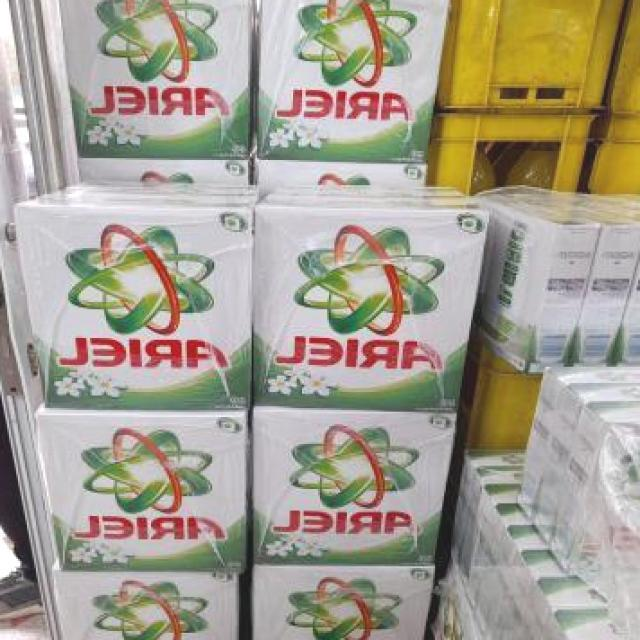Detergent: (258, 206, 490, 408), (48, 206, 250, 411), (259, 0, 457, 162), (45, 409, 248, 567), (257, 414, 460, 566), (76, 0, 256, 156), (256, 564, 437, 640), (77, 571, 239, 640)
